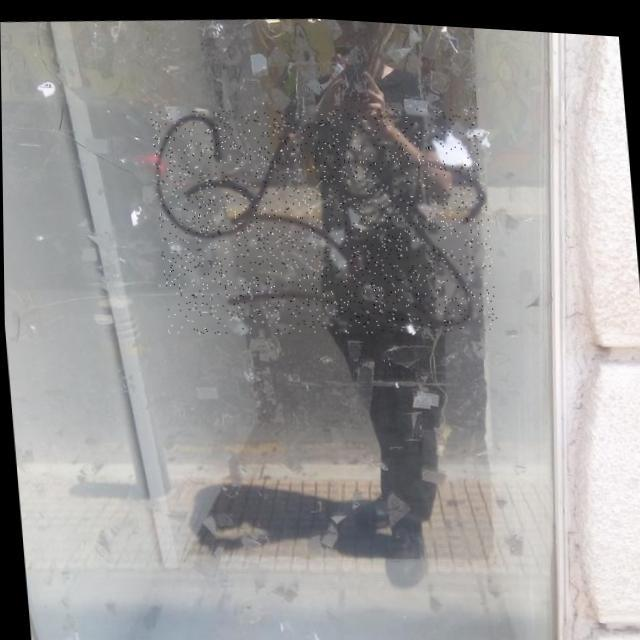-: (148, 86, 498, 348)
